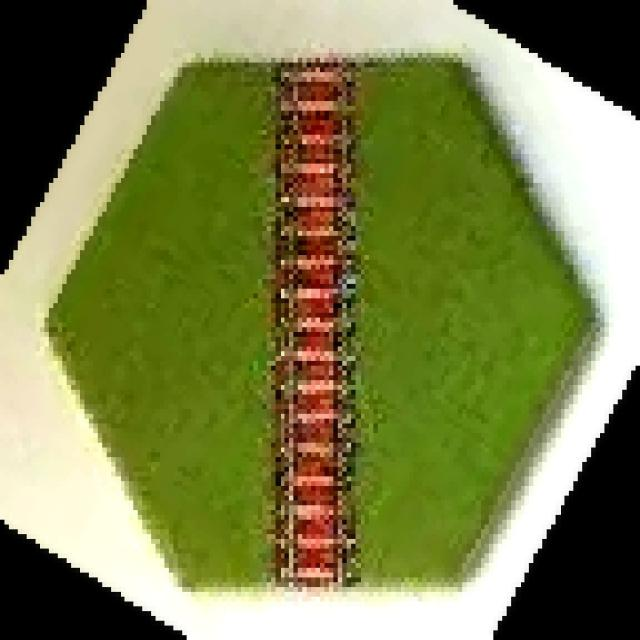3_1: (47, 56, 599, 594)
